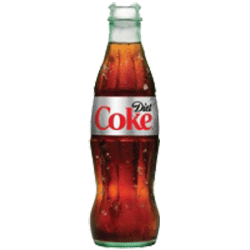Rec_Glass: (83, 1, 165, 247)
